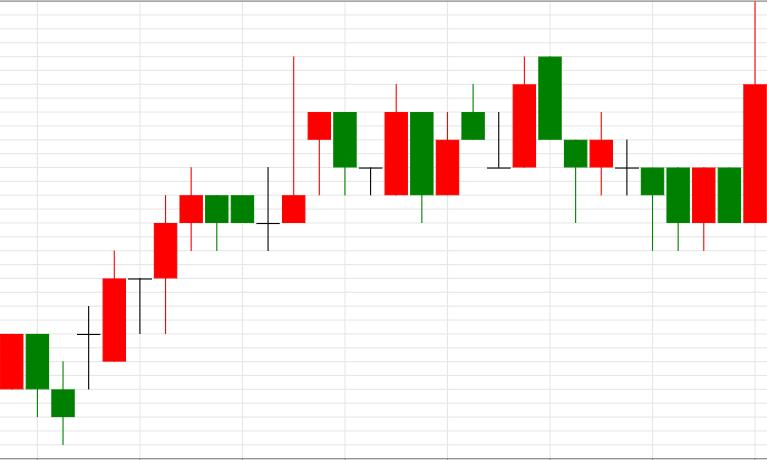hanging_man_fall: (78, 57, 330, 390)
